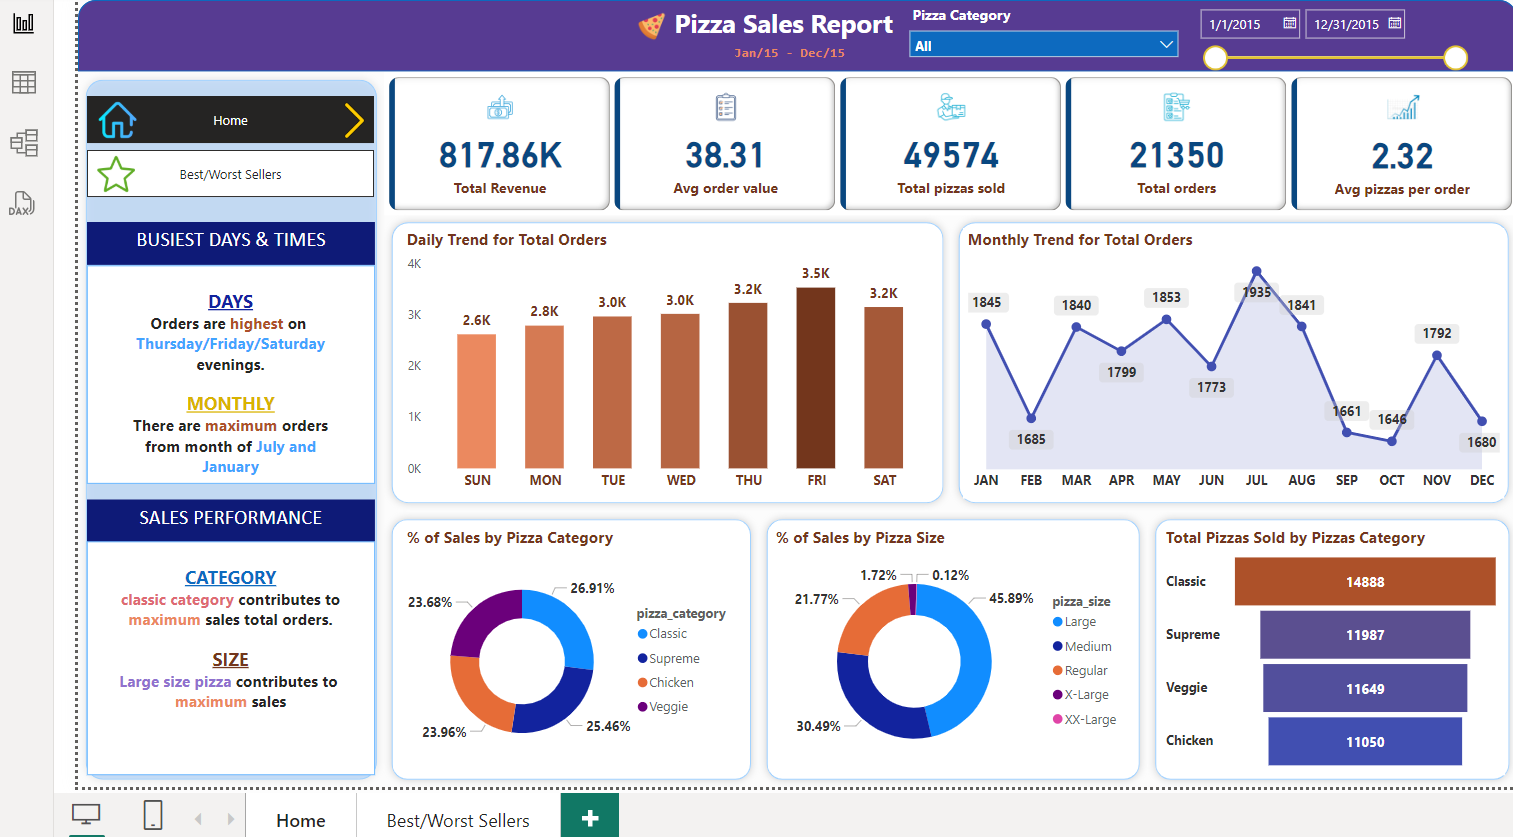

Layout of this report page (visuals, bound fields, positions):
{"tool":"powerbi","page":{"name":"Home","canvas":[1500,820],"ordinal":0},"visuals":[{"type":"cardVisual","fields":{"Data":["pizza_sales.Total Revenue","pizza_sales.Avg order value","pizza_sales.Total pizzas sold","pizza_sales.Total orders","pizza_sales.Avg pizzas per order"]},"box":[319.4,74.5,1180,149.1],"z":0},{"type":"shape","box":[0,0,1499.4,74.5],"z":1000},{"type":"textbox","box":[610.4,0,248.4,46.1],"z":2000},{"type":"textbox","box":[674.3,39,135.5,35.5],"z":3000},{"type":"image","box":[571.4,7.1,51.5,39],"z":4000},{"type":"shape","box":[319.4,223.6,590.9,308.8],"z":5000},{"type":"columnChart","title":"Daily Trend for Total Orders ","fields":{"Category":["pizza_sales.order day"],"Y":["pizza_sales.Total orders"]},"box":[337.1,237.8,557.2,282.1],"z":6000},{"type":"shape","box":[910.3,223.6,589.1,308.8],"z":7000},{"type":"areaChart","title":"Monthly Trend for Total Orders","fields":{"Category":["pizza_sales.order month"],"Y":["pizza_sales.Total orders"]},"box":[922.7,237.8,564.3,282.1],"z":8000},{"type":"shape","box":[319.4,532.3,390.4,287.5],"z":9000},{"type":"shape","box":[709.8,532.3,404.6,287.5],"z":10000},{"type":"shape","box":[1114.4,532.3,385.1,287.5],"z":11000},{"type":"donutChart","title":"% of Sales by Pizza Category","fields":{"Category":["pizza_sales.pizza_category"],"Y":["pizza_sales.Total Revenue"]},"box":[337.1,548.3,358.4,259.1],"z":12000},{"type":"donutChart","title":"% of Sales by Pizza Size","fields":{"Y":["pizza_sales.Total Revenue"],"Category":["pizza_sales.pizza_size1"]},"box":[722.2,548.3,378,259.1],"z":13000},{"type":"shape","box":[0,74.5,319.4,745.3],"z":14000},{"type":"funnel","title":"Total Pizzas Sold by Pizzas Category","fields":{"Category":["pizza_sales.pizza_category"],"Y":["pizza_sales.Total pizzas sold"]},"box":[1128.6,548.3,358.4,259.1],"z":15000},{"type":"textbox","box":[8.9,232,299.9,44.4],"z":16000},{"type":"textbox","box":[8.9,276.8,299.9,227.1],"z":17000},{"type":"textbox","box":[8.9,519.9,299.9,44.4],"z":18000},{"type":"textbox","box":[8.9,564.3,299.9,243.1],"z":19000},{"type":"slicer","fields":{"Values":["pizza_sales.pizza_category"]},"box":[857.1,0,299.9,65.7],"z":20000},{"type":"slicer","fields":{"Values":["pizza_sales.order_date"]},"box":[1156.9,0,299.9,90.5],"z":21000},{"type":"pageNavigator","box":[8.9,99.4,299.9,49.7],"z":21001},{"type":"pageNavigator","box":[9.5,155.6,299.9,49.7],"z":21002},{"type":"image","box":[264.4,101.7,47.9,47.9],"z":21003},{"type":"image","box":[10.6,99.4,60.3,49.7],"z":21004},{"type":"image","box":[8.9,156.2,60.3,49.7],"z":21005}]}

Visuals, with their boxes on the page's 1500x820 design canvas (x1, y1, x2, y2). These are canvas units, not pixel positions in the 1513x837 screenshot, which may show the page scaled, cropped or inside an application window:
cardVisual - pizza_sales.Total Revenue x pizza_sales.Avg order value: 319/74/1499/224
shape: 0/0/1499/74
textbox: 610/0/859/46
textbox: 674/39/810/74
image: 571/7/623/46
shape: 319/224/910/532
"Daily Trend for Total Orders " columnChart: 337/238/894/520
shape: 910/224/1499/532
"Monthly Trend for Total Orders" areaChart: 923/238/1487/520
shape: 319/532/710/820
shape: 710/532/1114/820
shape: 1114/532/1500/820
"% of Sales by Pizza Category" donutChart: 337/548/696/807
"% of Sales by Pizza Size" donutChart: 722/548/1100/807
shape: 0/74/319/820
"Total Pizzas Sold by Pizzas Category" funnel: 1129/548/1487/807
textbox: 9/232/309/276
textbox: 9/277/309/504
textbox: 9/520/309/564
textbox: 9/564/309/807
slicer - pizza_sales.pizza_category: 857/0/1157/66
slicer - pizza_sales.order_date: 1157/0/1457/90
pageNavigator: 9/99/309/149
pageNavigator: 10/156/309/205
image: 264/102/312/150
image: 11/99/71/149
image: 9/156/69/206
